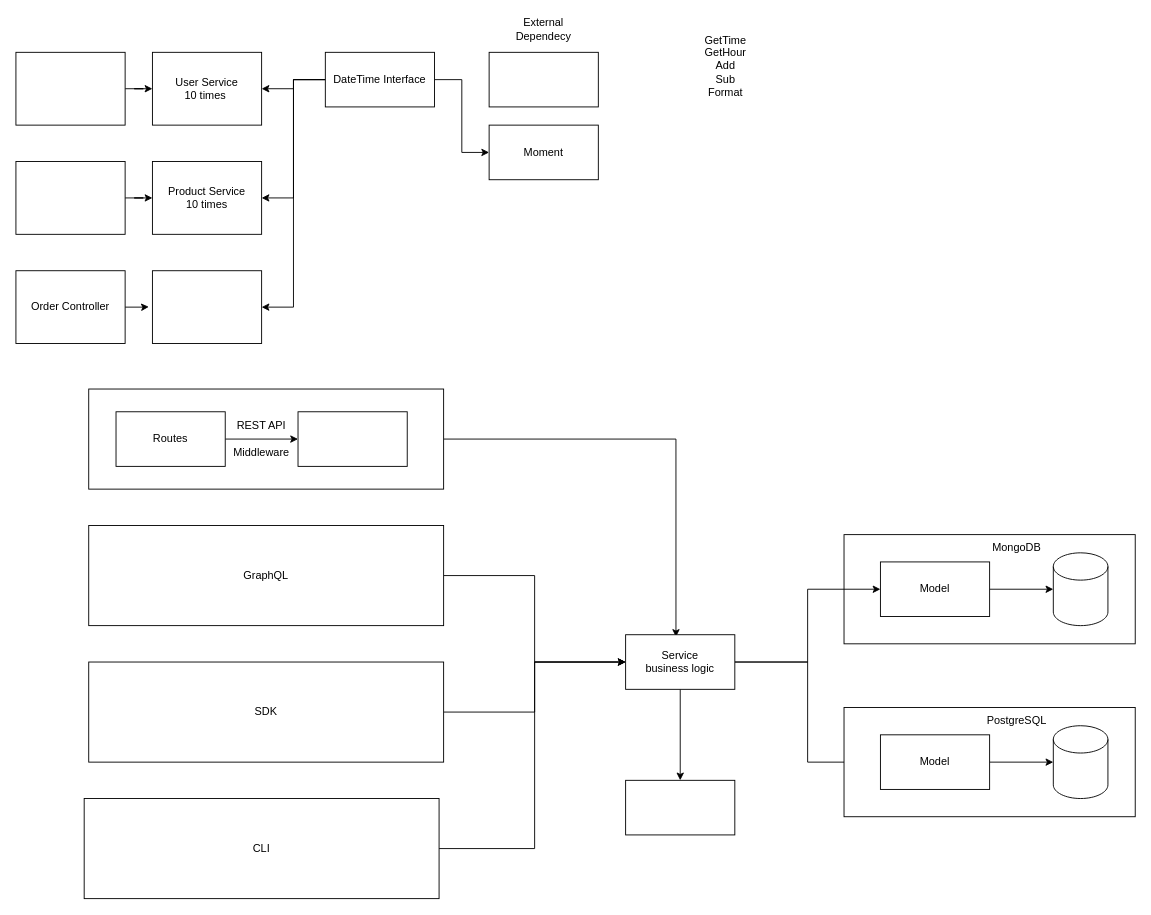
The diagram is 1151 pixels wide and 915 high, and some of its shapes have lost their labels. The centre of each missing label's shape, as x and y in pixels:
"Controller" belongs at (352,438).
"DayJS 3.5" belongs at (543,79).
"Order Service 30 times" belongs at (207,307).
"Product Controller" belongs at (70,197).
"User Controller" belongs at (70,88).
"Utilities / Helper Functions" belongs at (680,807).
